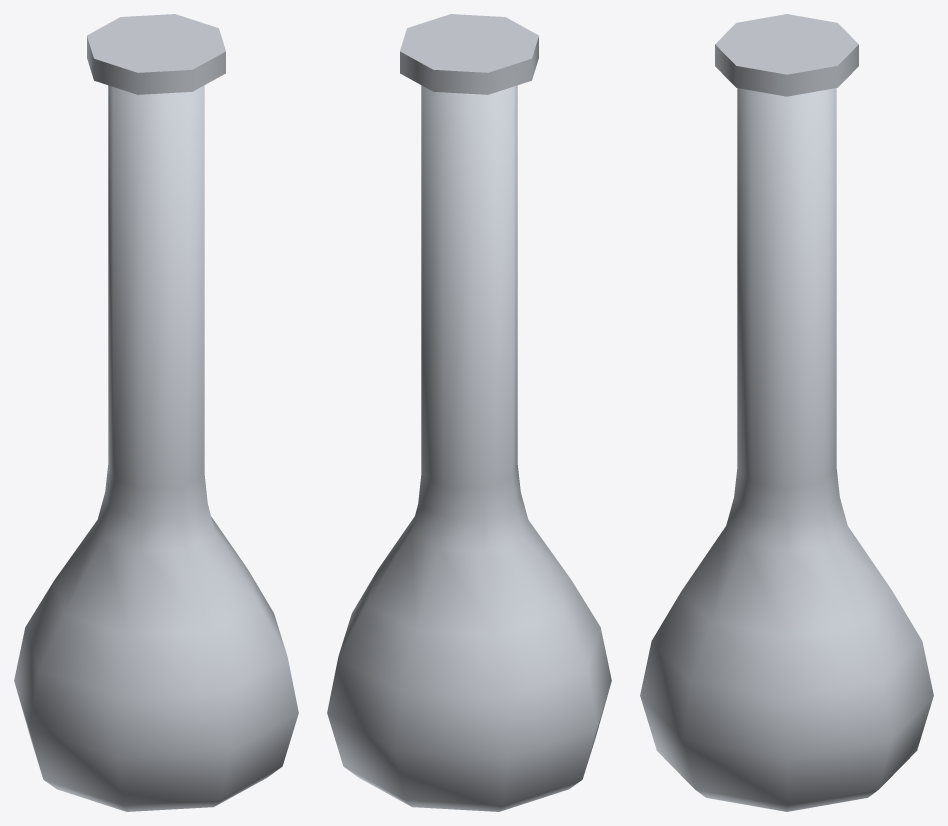
File: bottle_glassware_volumetric_flask_small.glb
3 renders of one model, left to right at view 1: azimuth 30°, elevation 25°; view 2: azimuth 150°, elevation 25°; view 3: azimuth 270°, elevation 25°, orthographic.
Visible parts, largest first — view 1: bottle_glassware_volumetric_flask_small, bottle_glassware_volumetric_flask_small_cap; view 2: bottle_glassware_volumetric_flask_small, bottle_glassware_volumetric_flask_small_cap; view 3: bottle_glassware_volumetric_flask_small, bottle_glassware_volumetric_flask_small_cap.
Boxes of the visible parts, x1,y1,x2,y2 form: bottle_glassware_volumetric_flask_small: (14, 85, 298, 811); bottle_glassware_volumetric_flask_small_cap: (87, 14, 225, 94); bottle_glassware_volumetric_flask_small: (327, 85, 611, 811); bottle_glassware_volumetric_flask_small_cap: (400, 14, 538, 94); bottle_glassware_volumetric_flask_small: (640, 88, 933, 811); bottle_glassware_volumetric_flask_small_cap: (715, 14, 858, 96).
Bounding box in the file's own units: 8.89 × 24.24 × 8.89.
1 material, 1 textured.
